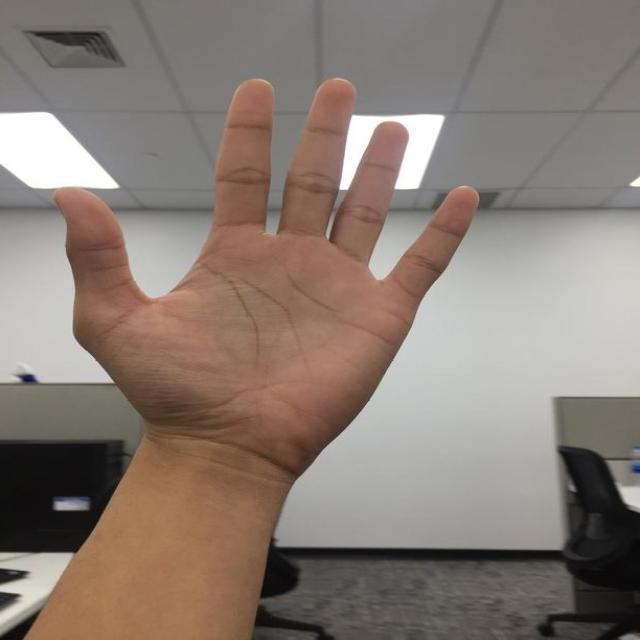hand: (49, 75, 480, 458)
